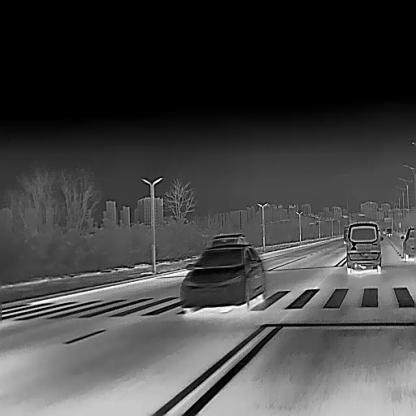car: (178, 232, 267, 309), (342, 220, 383, 275), (208, 232, 246, 248), (399, 225, 416, 260), (342, 225, 350, 243), (386, 228, 391, 237)
